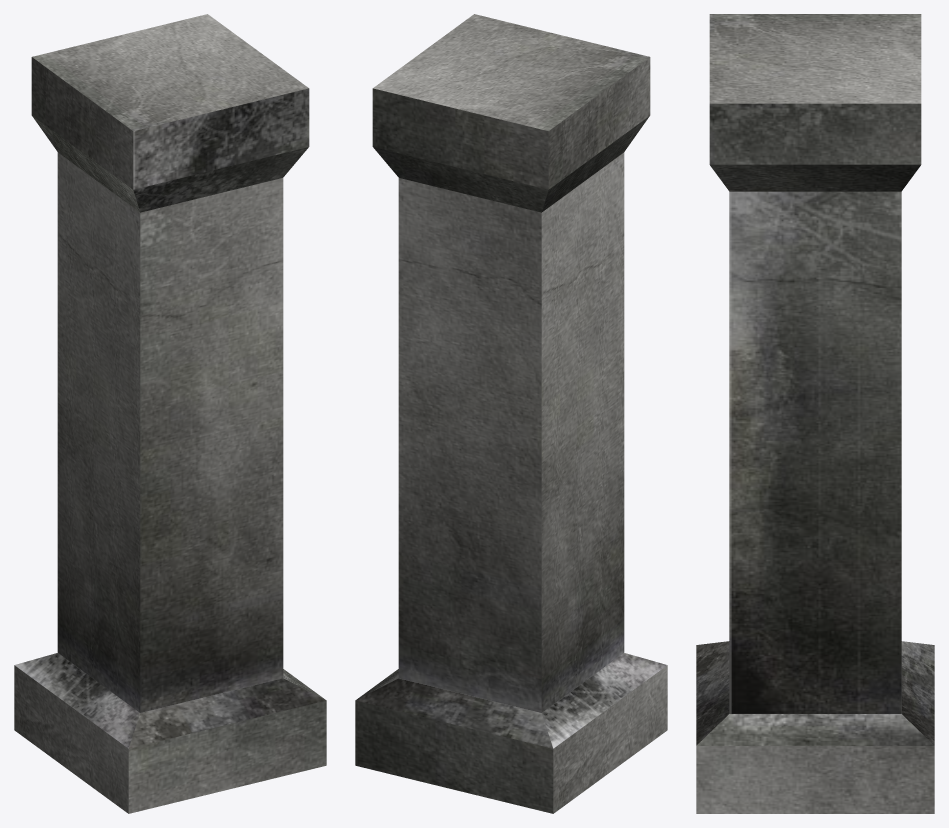
The model's file is R3_Obstacle.obj.
The picture shows the model from 3 angles, left to right: view 1: azimuth 30°, elevation 25°; view 2: azimuth 150°, elevation 25°; view 3: azimuth 270°, elevation 25°; orthographic projection. The views are drawn at different scales.
Visible parts, largest first — view 1: Cube; view 2: Cube; view 3: Cube.
Part boxes in pixels (bbox=[...]): Cube: bbox=[14, 14, 326, 813]; Cube: bbox=[355, 14, 667, 813]; Cube: bbox=[696, 14, 934, 813].
Size of the model in its own units: 2 by 6.52 by 2.
1 material, 1 textured.
